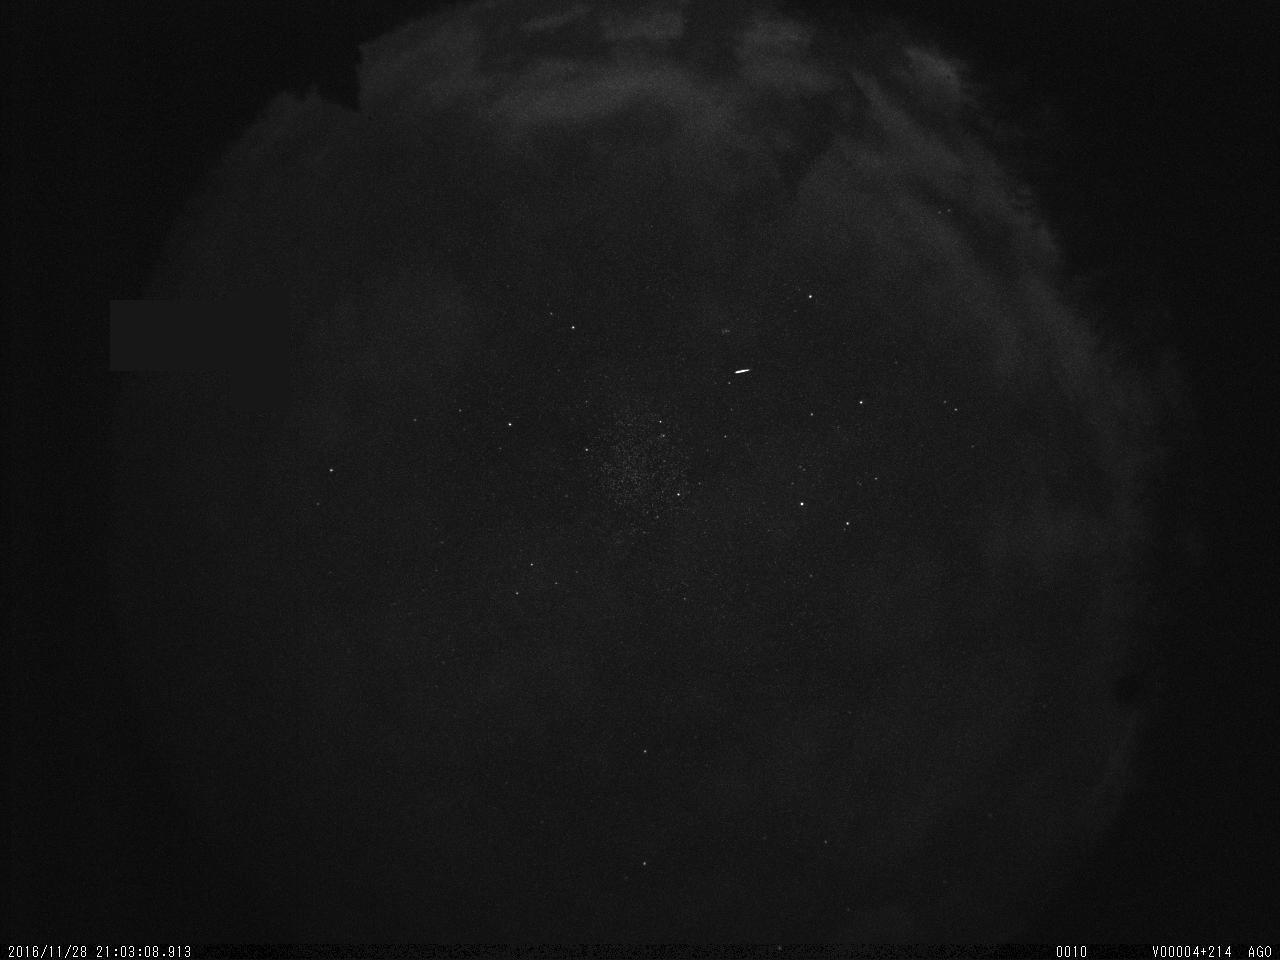meteor: (731, 366, 754, 376)
